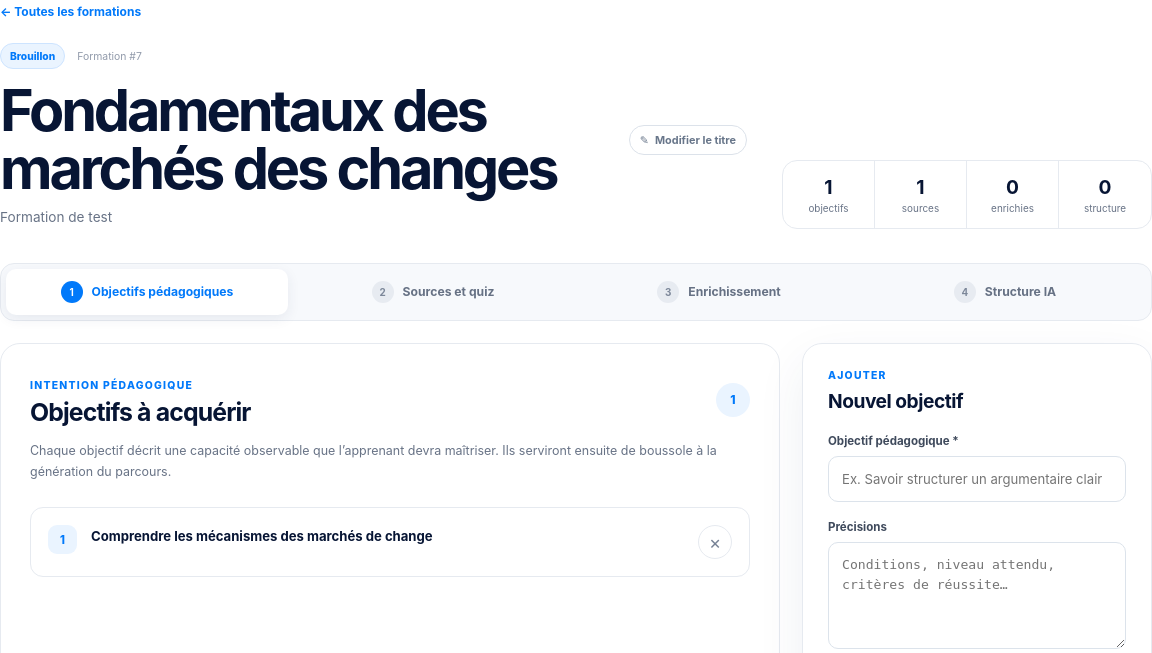
Test: AdminTrainingDetailView › présente les objectifs, les données brutes, l’enrichissement puis la structure IA
Step 1. Click the button with test id "training-tab-enrichment" → (719, 292), box [578,269,860,315]
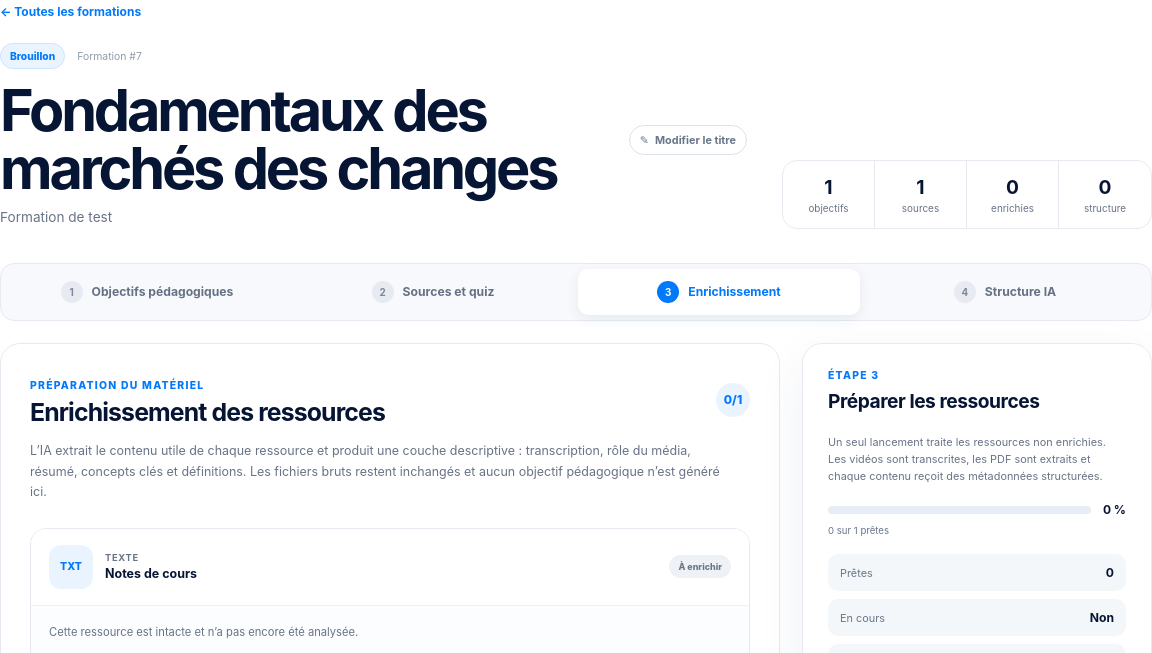
Check: the text "Enrichissement des ressources" is shown, box [30,397,385,427]
Check: the text "Cette ressource est intacte" is shown, box [49,625,358,639]
Step 2. Click the button with test id "training-tab-generation" → (1005, 292), box [864,269,1146,315]
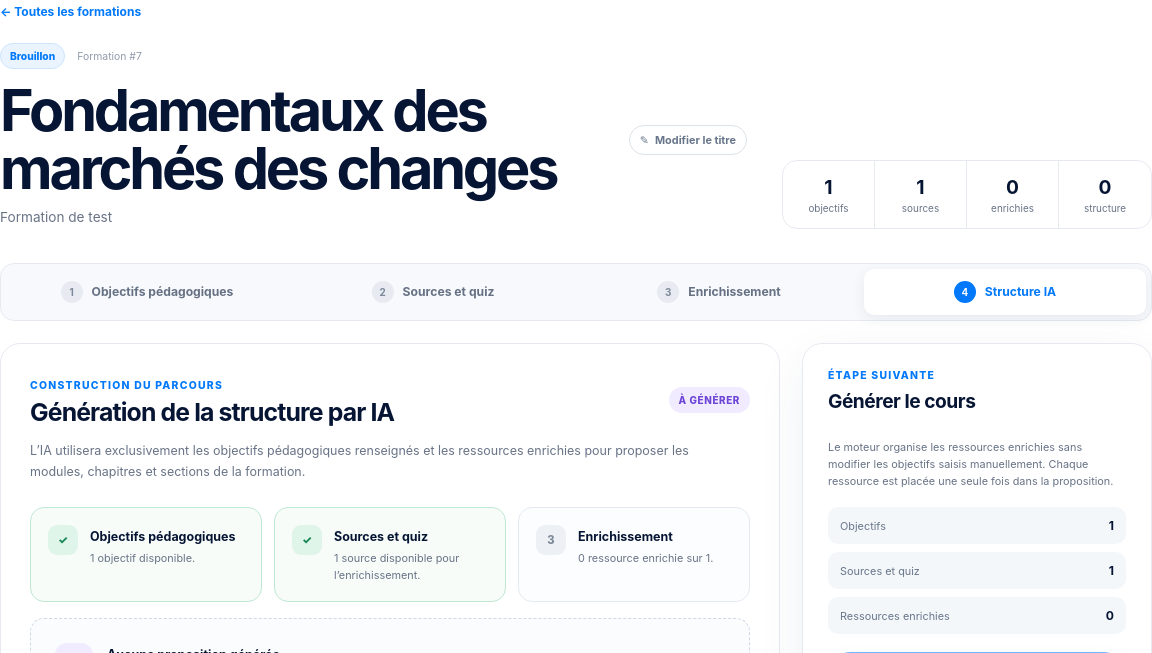
Check: the text "Génération de la structure par IA" is shown, box [30,397,394,427]
Check: the text "1 objectif disponible" is shown, box [90,551,195,565]
Check: the text "1 source disponible pour l’enrichissement" is shown, box [334,551,459,582]
